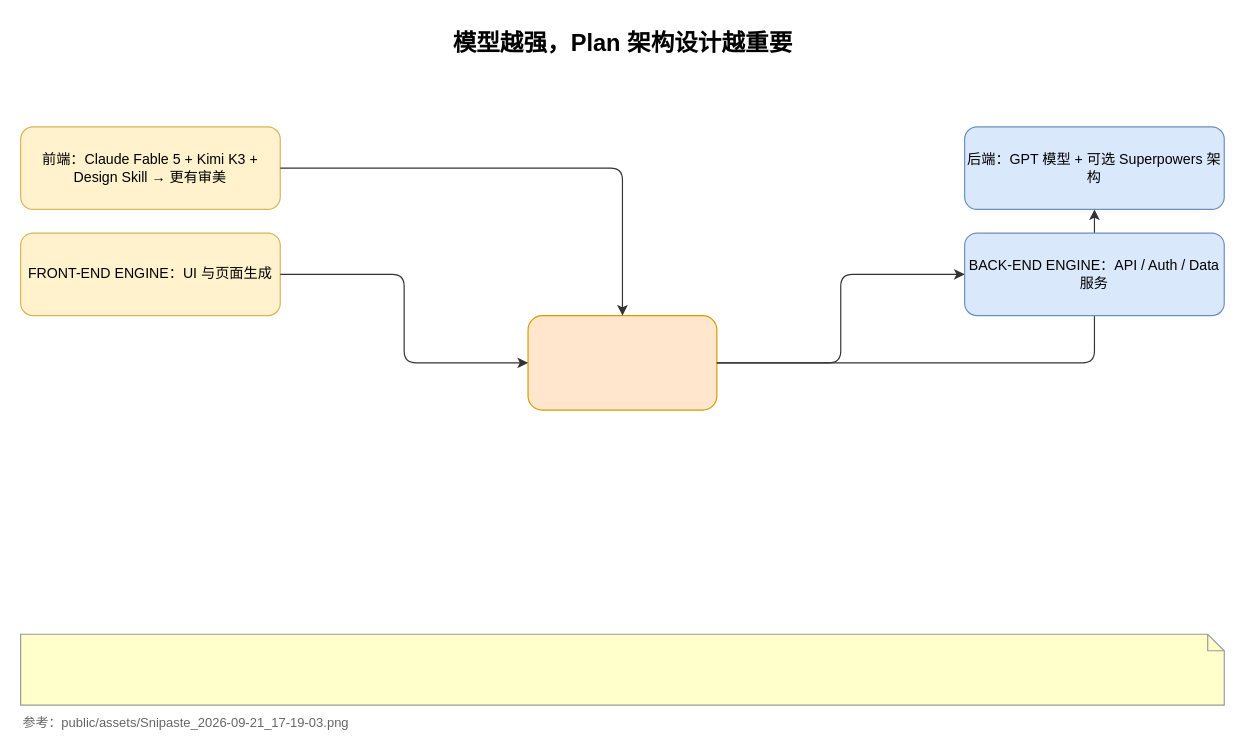
This 1245x753 diagram has some shape labels left out. Here are the shapes that lost their labels. From the top down, the centre of each, then its label:
At point 622,362: "人类：架构设计总览 · 需求拆解 · 验收清单 · 责任签名".
At point 621,669: "AI：执行、生成 | 人类：拆解需求、下定义、审核验收、承担责任".
